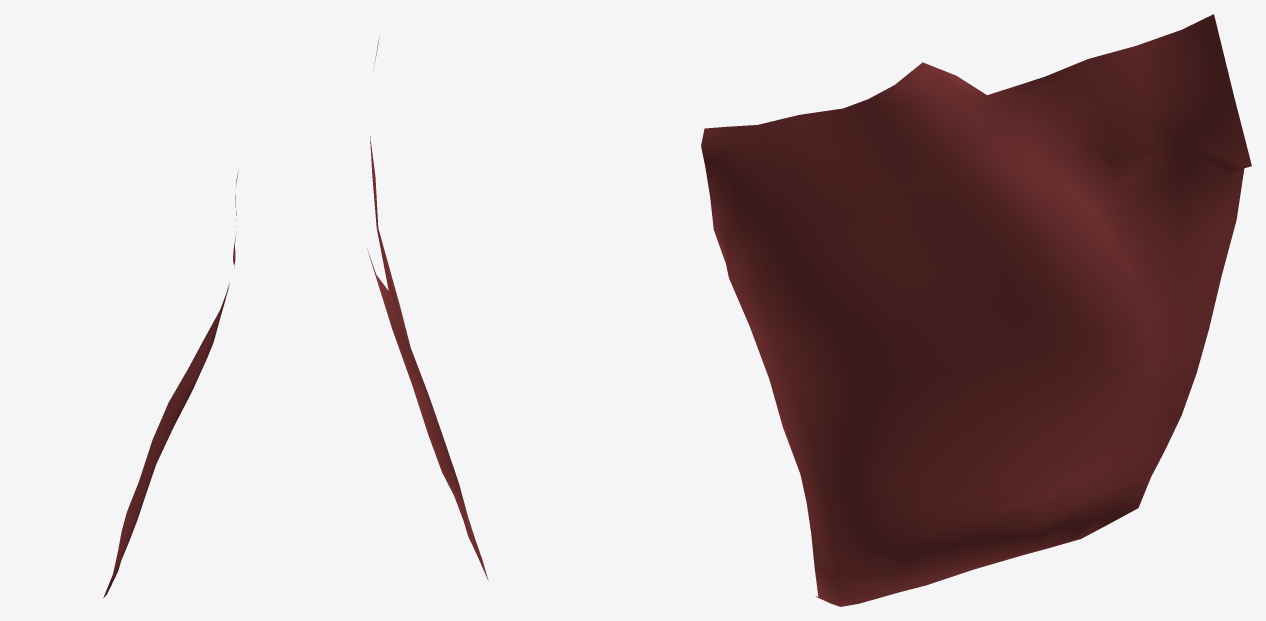
File: masseteric-fascia-l.glb
3 views of the same model, side by side, from view 1: azimuth 30°, elevation 25°; view 2: azimuth 150°, elevation 25°; view 3: azimuth 270°, elevation 25° (orthographic). The views are drawn at different scales.
Visible parts, largest first — view 1: Masseteric fascia.l; view 2: Masseteric fascia.l; view 3: Masseteric fascia.l.
Boxes of the visible parts, bbox=[...] form: Masseteric fascia.l: bbox=[103, 171, 238, 597]; Masseteric fascia.l: bbox=[367, 35, 488, 580]; Masseteric fascia.l: bbox=[701, 14, 1251, 606].
Size of the model in its own units: 0.0283 by 0.069 by 0.0473.
